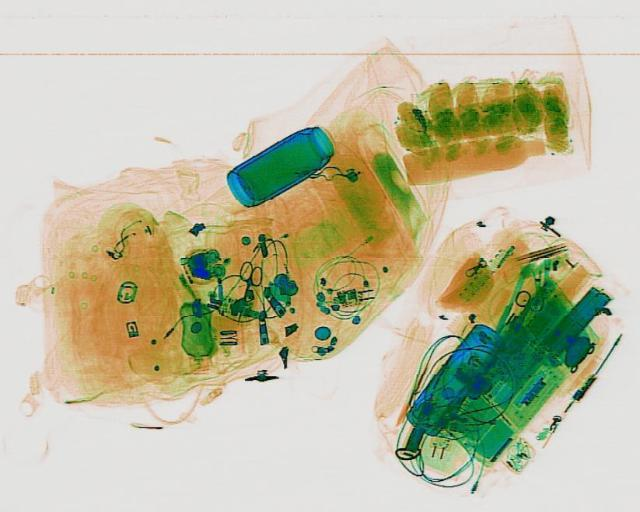Scissors: (226, 257, 266, 324)
